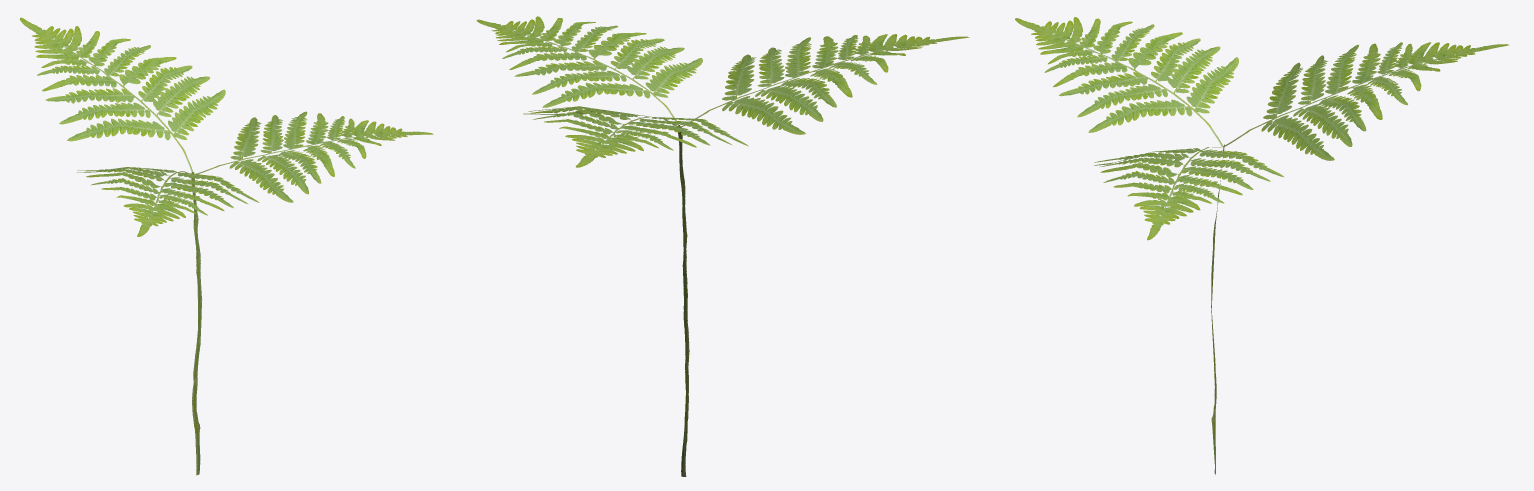
Rendered from FernA.fbx.
The picture shows the model from 3 angles, left to right: view 1: azimuth 30°, elevation 25°; view 2: azimuth 150°, elevation 25°; view 3: azimuth 270°, elevation 25°; orthographic projection. The views are drawn at different scales.
Parts seen in each view (by area): view 1: fernA; view 2: fernA; view 3: fernA.
Boxes of the visible parts, x1,y1,x2,y2 form: fernA: [19, 17, 433, 475]; fernA: [476, 16, 969, 476]; fernA: [1015, 17, 1508, 474].
Bounding box in the file's own units: 11.48 × 11.08 × 12.57.
